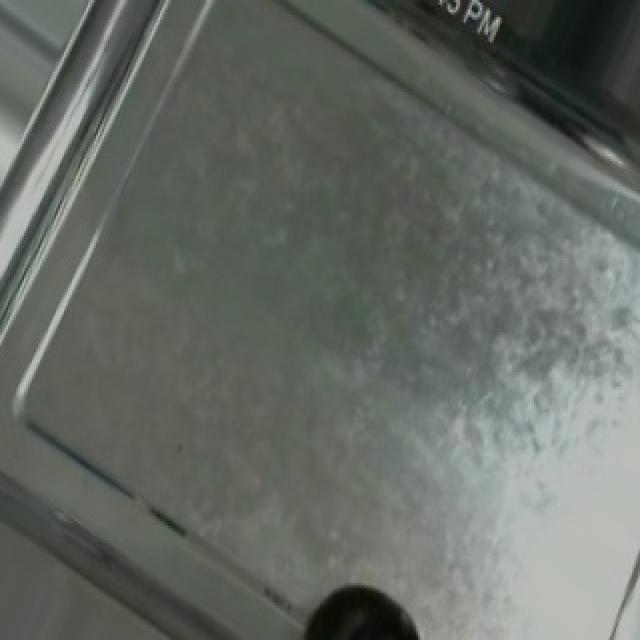Fruit: (288, 565, 436, 640)
